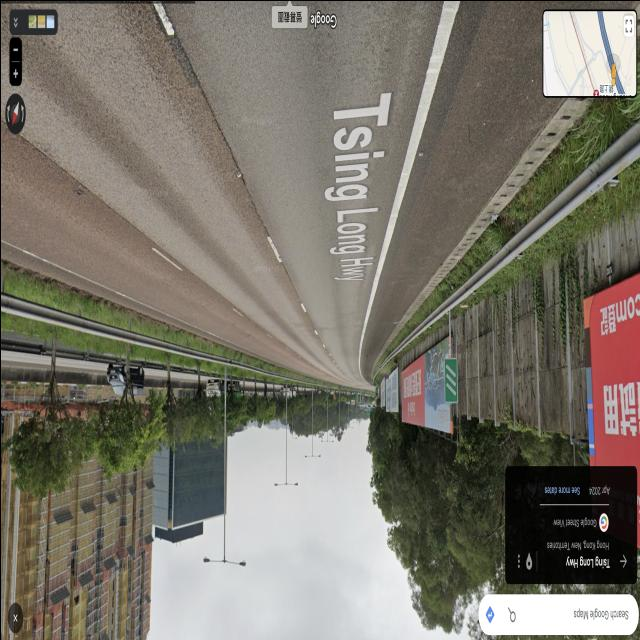Warning-Sign: (444, 356, 456, 401)
